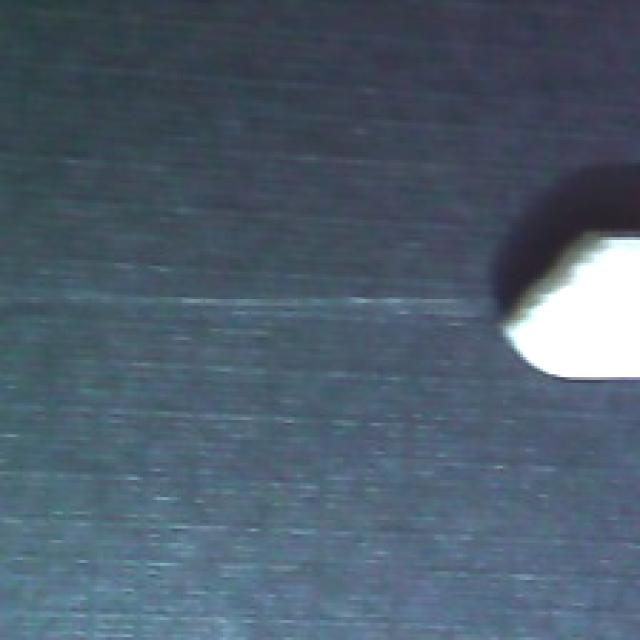defected: (497, 223, 640, 386)
